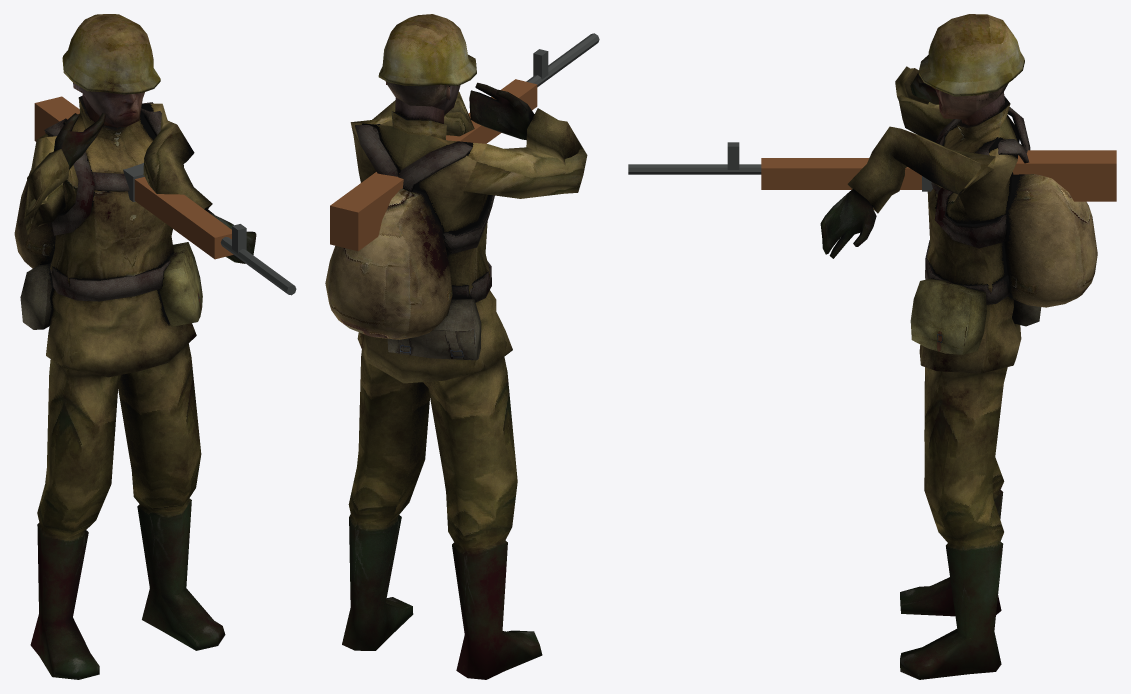
File: soviet_ww2_soldier_fire_01.glb
3 views of the same model, side by side, from view 1: azimuth 30°, elevation 25°; view 2: azimuth 150°, elevation 25°; view 3: azimuth 270°, elevation 25° (orthographic). The views are drawn at different scales.
Visible parts, largest first — view 1: final_Static, SovietRifle_Generated; view 2: final_Static, SovietRifle_Generated; view 3: final_Static, SovietRifle_Generated.
Part boxes in pixels (x1,y1,x2,y2): final_Static: (14, 14, 256, 679); SovietRifle_Generated: (34, 96, 296, 295); final_Static: (325, 14, 587, 679); SovietRifle_Generated: (330, 33, 599, 251); final_Static: (820, 14, 1097, 679); SovietRifle_Generated: (628, 142, 1116, 201).
Bounding box in the file's own units: 0.6044 × 1.72 × 1.23.
3 materials, 1 textured.
